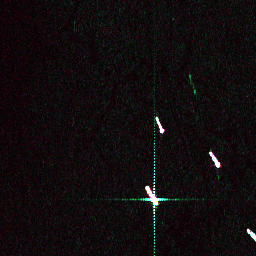ship: (142, 183, 161, 208), (205, 148, 223, 170), (153, 114, 166, 134), (245, 226, 255, 240)
